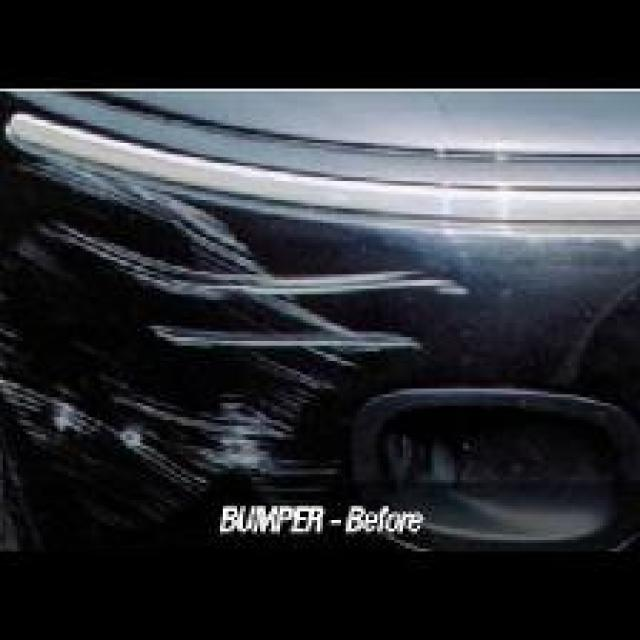bumper_scratch_severe: (43, 191, 343, 500)
